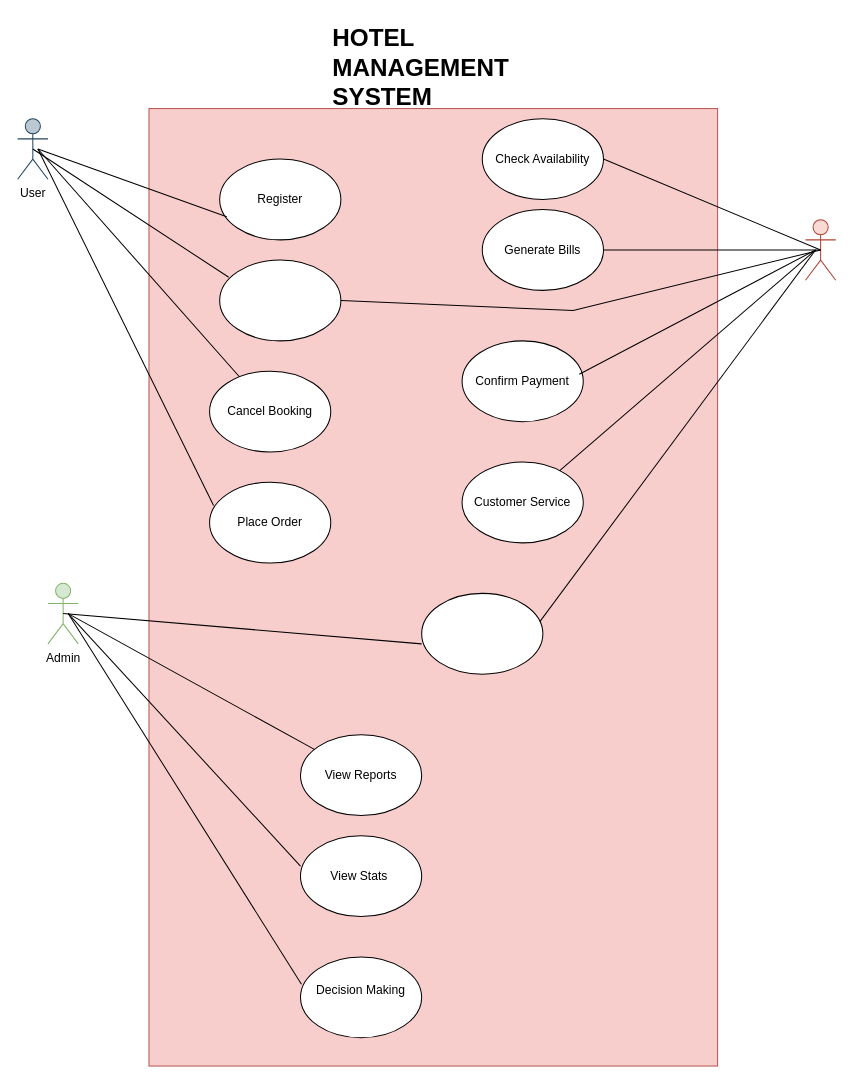
Some shapes in this 853 by 1084 pixel diagram are drawn without their labels. The shapes that lost their labels are listed below. From the top down, each one's centre as x and y in pixels, then its label:
At pixel 820 249: "Staff".
At pixel 280 300: "Book Room".
At pixel 482 633: "Login".
